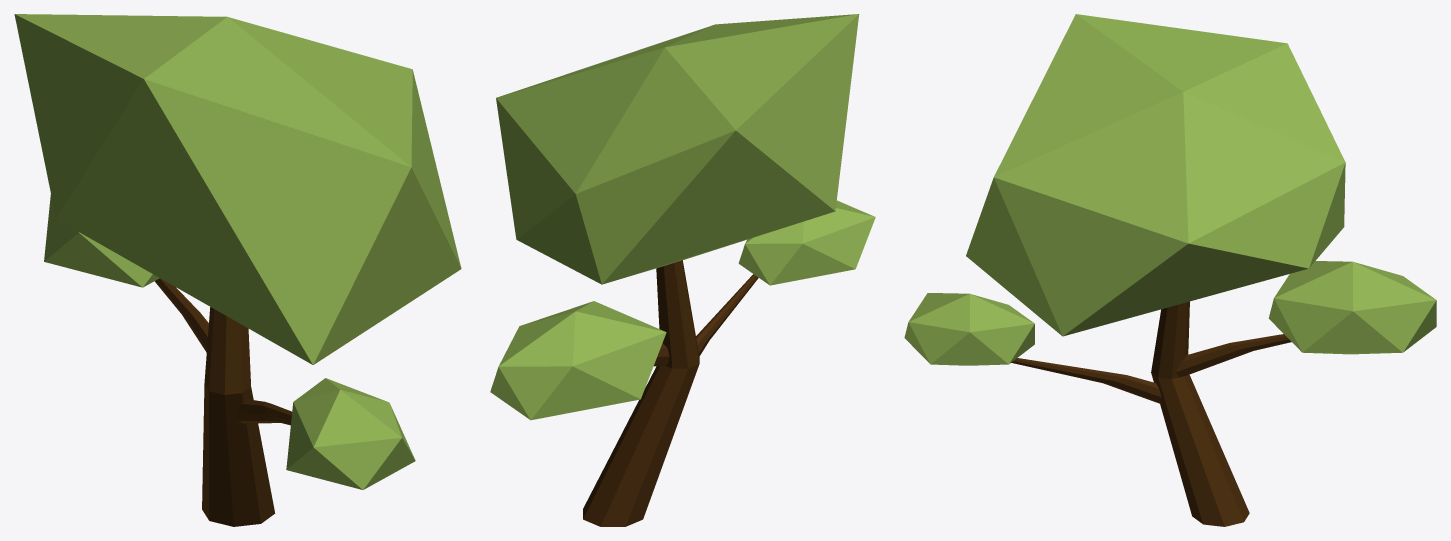
Rendered from tree006.fbx.
3 views of the same model, side by side, from view 1: azimuth 30°, elevation 25°; view 2: azimuth 150°, elevation 25°; view 3: azimuth 270°, elevation 25° (orthographic). The views are drawn at different scales.
Visible parts, largest first — view 1: Cylinder.010; view 2: Cylinder.010; view 3: Cylinder.010.
Part boxes in pixels (box(x1,y1,x2,y2)): Cylinder.010: box(14, 14, 461, 526); Cylinder.010: box(490, 14, 875, 526); Cylinder.010: box(904, 14, 1436, 526).
Bounding box in the file's own units: 912 × 1282 × 1441.
